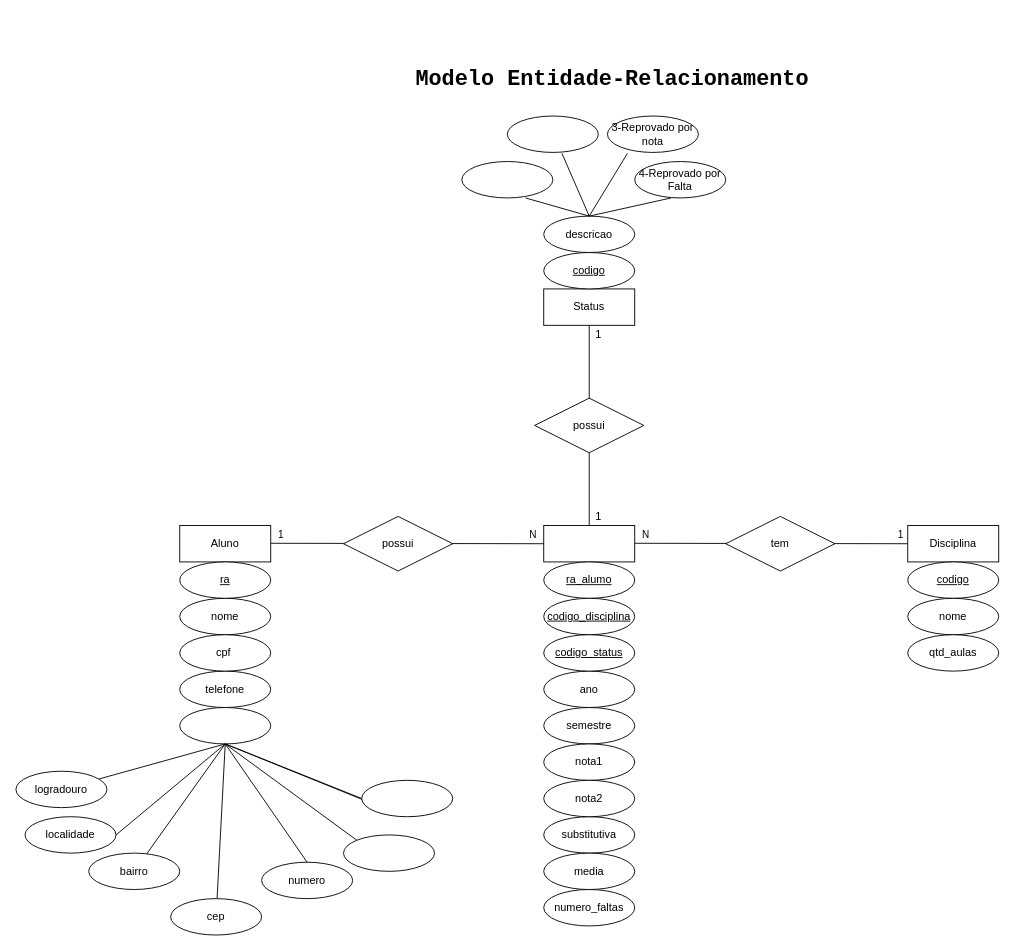
The diagram is 1015 pixels wide and 951 high, and some of its shapes have lost their labels. The shapes that lost their labels are listed below. From the top down, each one's centre as x and y in pixels, then its label:
At [552,133]: "2-Recuperação".
At [507,179]: "1-Aprovado".
At [589,543]: "matricula".
At [225,725]: "endereço".
At [407,798]: "complemento".
At [389,852]: "uf".
